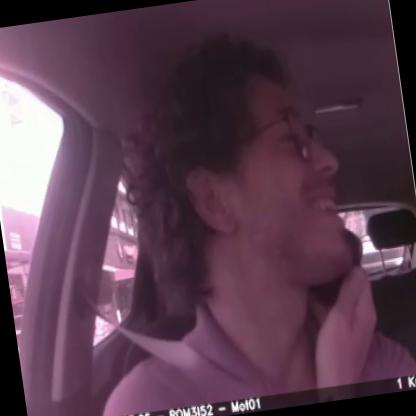phone: (306, 225, 374, 317)
